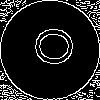O: (25, 25, 74, 67)
